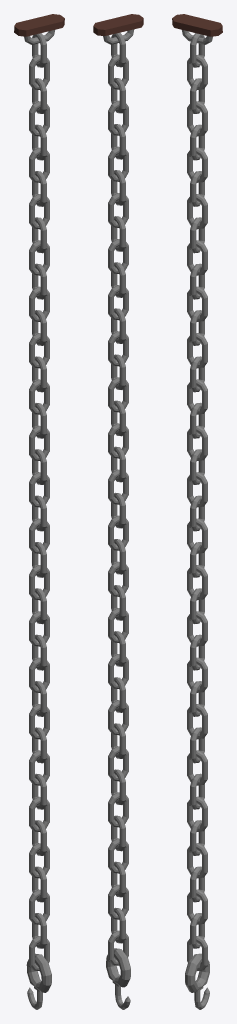
File: corrente com gancho.fbx
3 renders of one model, left to right at view 1: azimuth 30°, elevation 25°; view 2: azimuth 210°, elevation 25°; view 3: azimuth 330°, elevation 25°, orthographic.
Parts seen in each view (by area): view 1: Torus.016; view 2: Torus.016; view 3: Torus.016.
Part boxes in pixels (left/top/right/bottom): Torus.016: left=14, top=14, right=64, bottom=1009; Torus.016: left=93, top=14, right=143, bottom=1009; Torus.016: left=172, top=14, right=222, bottom=1009.
Bounding box in the file's own units: 30.29 × 620 × 23.68.
